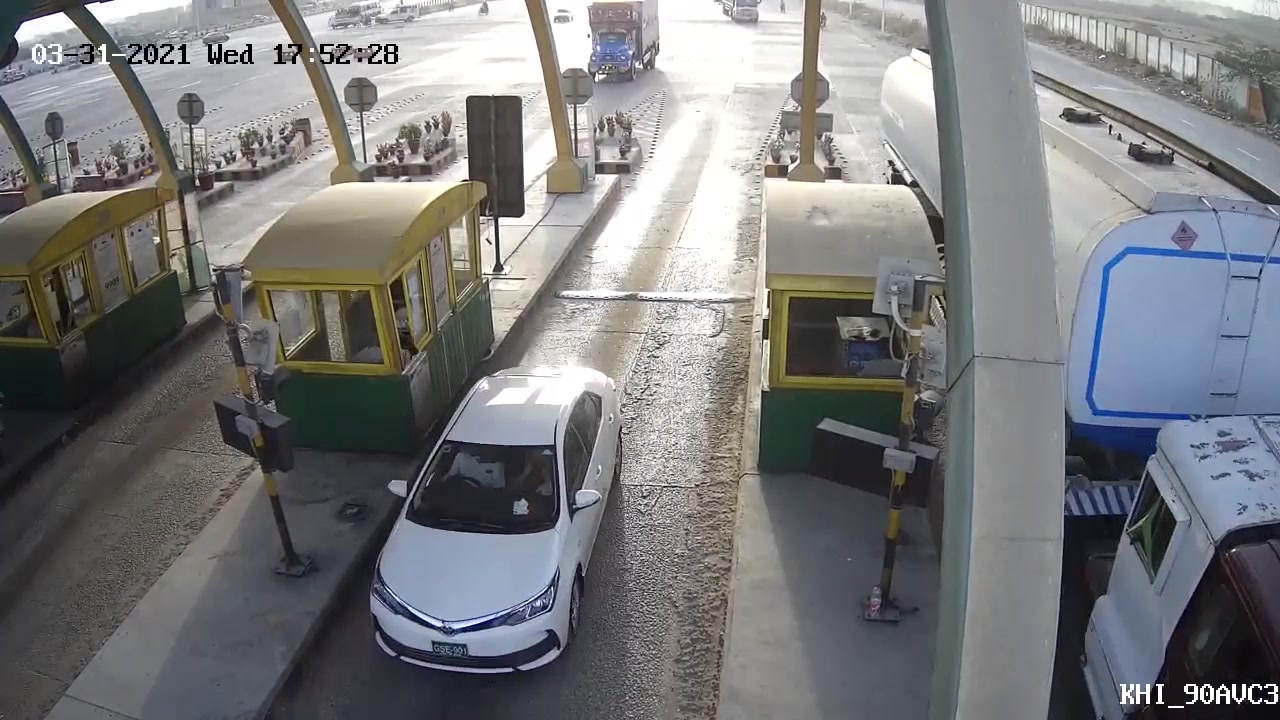F1: (346, 360, 627, 683)
